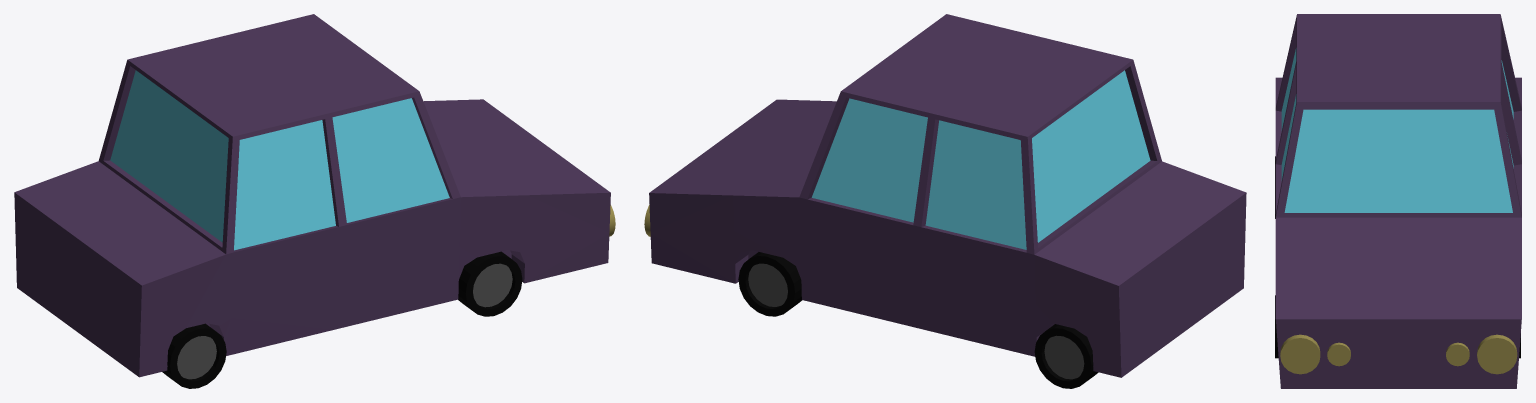
File: Car Model.fbx
The picture shows the model from 3 angles, left to right: view 1: azimuth 30°, elevation 25°; view 2: azimuth 150°, elevation 25°; view 3: azimuth 270°, elevation 25°; orthographic projection. The views are drawn at different scales.
Parts seen in each view (by area): view 1: pCube1, pCylinder7, pCylinder6; view 2: pCube1, pCylinder8, pCylinder9; view 3: pCube1, pCylinder1, pCylinder4, pCylinder3, pCylinder2.
Boxes of the visible parts, bbox=[...] form: pCube1: bbox=[14, 14, 610, 377]; pCylinder7: bbox=[458, 251, 522, 316]; pCylinder6: bbox=[162, 323, 226, 388]; pCube1: bbox=[649, 14, 1246, 377]; pCylinder8: bbox=[738, 252, 802, 316]; pCylinder9: bbox=[1034, 324, 1098, 388]; pCube1: bbox=[1275, 14, 1521, 388]; pCylinder1: bbox=[1477, 334, 1517, 374]; pCylinder4: bbox=[1280, 334, 1320, 374]; pCylinder3: bbox=[1327, 342, 1350, 366]; pCylinder2: bbox=[1446, 342, 1469, 366].
Bounding box in the file's own units: 7.54 × 3.51 × 3.51.
